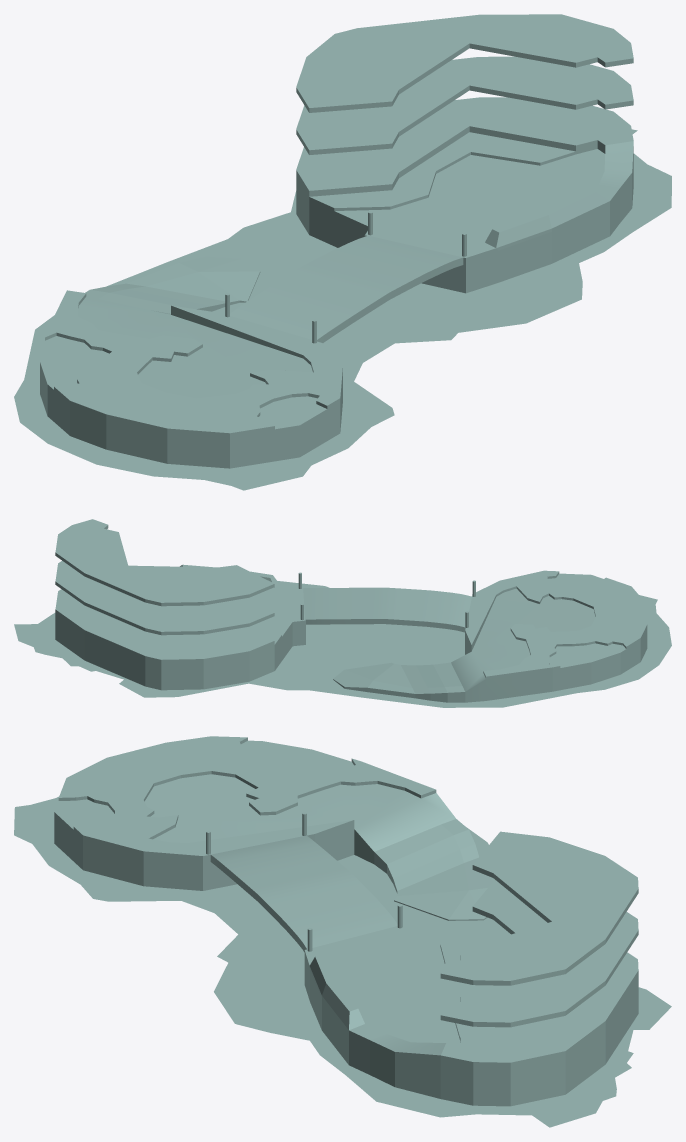
The model's file is Inside Mountain Blockout.fbx.
The picture shows the model from 3 angles, top to bottom: view 1: azimuth 30°, elevation 25°; view 2: azimuth 150°, elevation 25°; view 3: azimuth 270°, elevation 25°; orthographic projection. The views are drawn at different scales.
Parts seen in each view (by area): view 1: Inside_Mountain, Bridge_Plank_Geo1; view 2: Inside_Mountain, Bridge_Plank_Geo1; view 3: Inside_Mountain, Bridge_Plank_Geo1.
Part boxes in pixels (x1=…): Inside_Mountain: x1=14, y1=14, x2=671, y2=490; Bridge_Plank_Geo1: x1=225, y1=211, x2=466, y2=343; Inside_Mountain: x1=14, y1=519, x2=671, y2=707; Bridge_Plank_Geo1: x1=298, y1=572, x2=475, y2=632; Inside_Mountain: x1=14, y1=736, x2=671, y2=1127; Bridge_Plank_Geo1: x1=206, y1=812, x2=402, y2=952.
Bounding box in the file's own units: 67.46 × 10.71 × 50.93.
